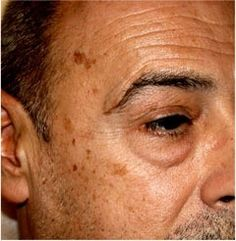DARK_SPOTS: (71, 49, 100, 72), (81, 177, 100, 203), (63, 116, 76, 142), (101, 163, 125, 173), (84, 150, 98, 164), (91, 87, 101, 94), (73, 165, 79, 175)
